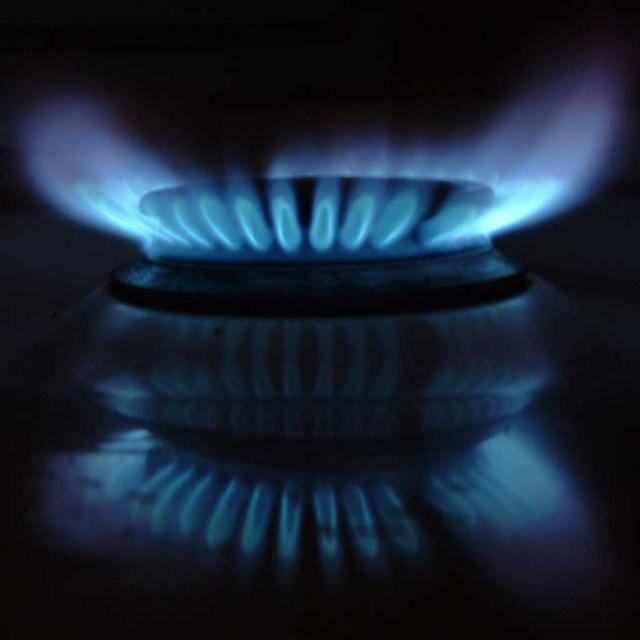Fire: (56, 133, 599, 240)
